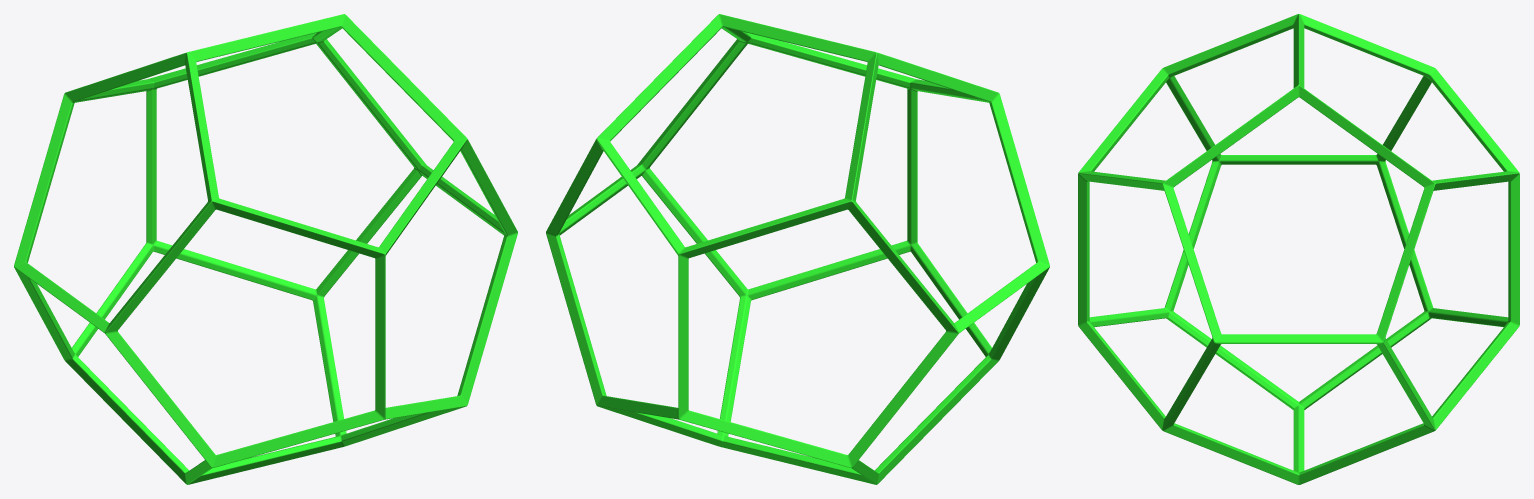
The model's file is Wiredodecahedron.obj.
3 views of the same model, side by side, from view 1: azimuth 30°, elevation 25°; view 2: azimuth 150°, elevation 25°; view 3: azimuth 270°, elevation 25° (orthographic). The views are drawn at different scales.
Visible parts, largest first — view 1: Wiredodecahedron; view 2: Wiredodecahedron; view 3: Wiredodecahedron.
Part boxes in pixels (box(x1,y1,x2,y2)): Wiredodecahedron: box(14, 14, 517, 484); Wiredodecahedron: box(546, 14, 1049, 484); Wiredodecahedron: box(1078, 14, 1519, 484).
Bounding box in the file's own units: 1 × 1 × 1.
